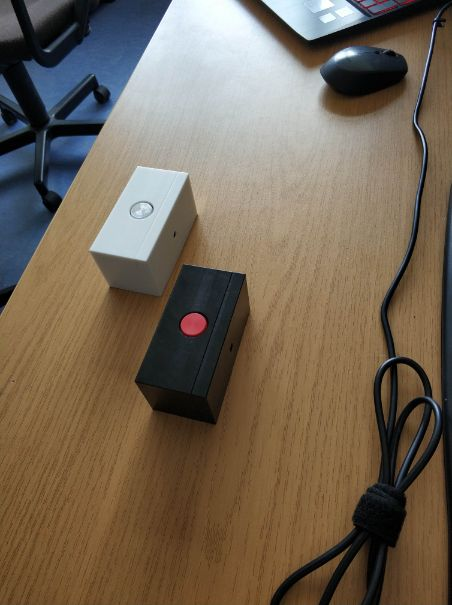black+black+red: (131, 263, 255, 431)
white+white+silver: (88, 163, 202, 297)
